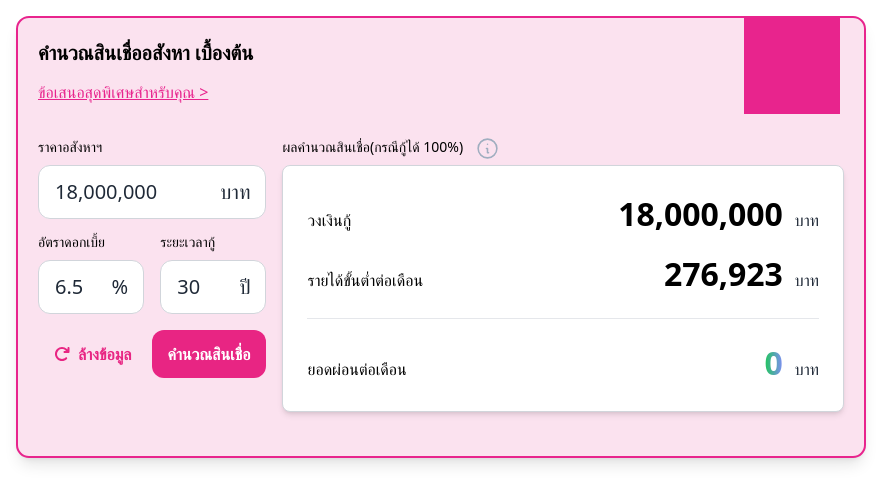
Test case: คอมโพเนนต์ Calculator › ตรวจสอบการป้อนราคาสินเชื่อ
Replace the text in the field named "ราคาอสังหาฯ" with "abc". click: (152,192)
box: [38,165,266,219]
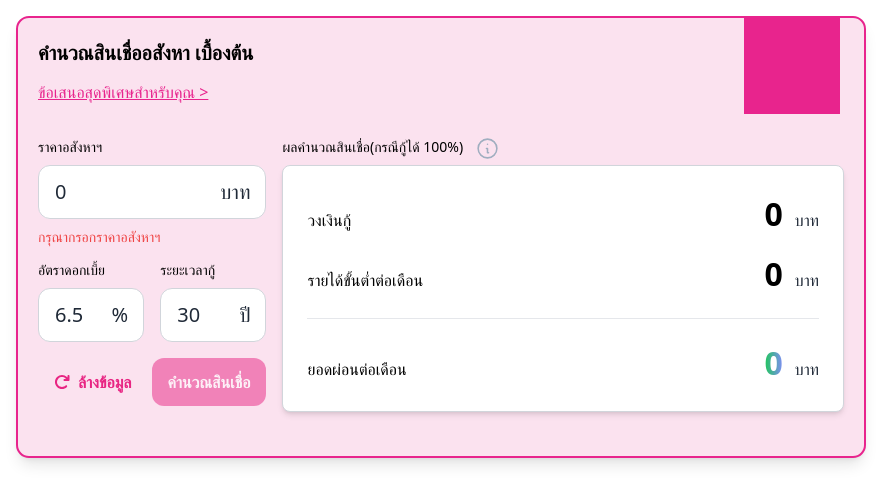
Result: the text "กรุณากรอกราคาอสังหาฯ" is shown at [38,227,161,246]
